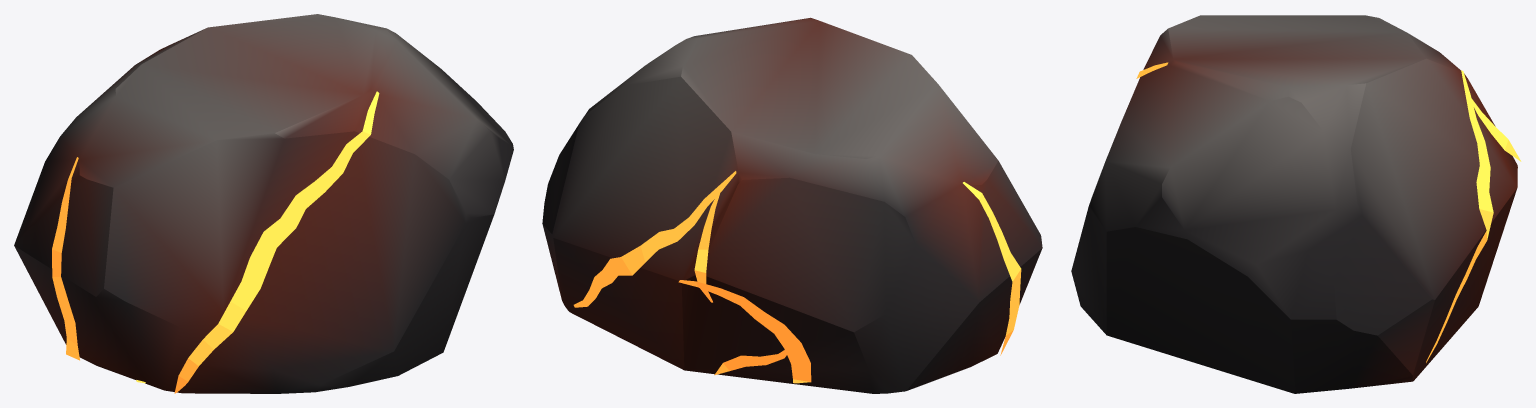
File: lava_rock_b.glb
3 views of the same model, side by side, from view 1: azimuth 30°, elevation 25°; view 2: azimuth 150°, elevation 25°; view 3: azimuth 270°, elevation 25° (orthographic). The views are drawn at different scales.
Parts seen in each view (by area): view 1: lava_rock_b; view 2: lava_rock_b; view 3: lava_rock_b.
Part boxes in pixels (x1,y1,x2,y2): lava_rock_b: (14,14,513,393); lava_rock_b: (542,17,1042,393); lava_rock_b: (1071,15,1521,393).
Size of the model in its own units: 0.7446 by 0.3948 by 0.6226.
